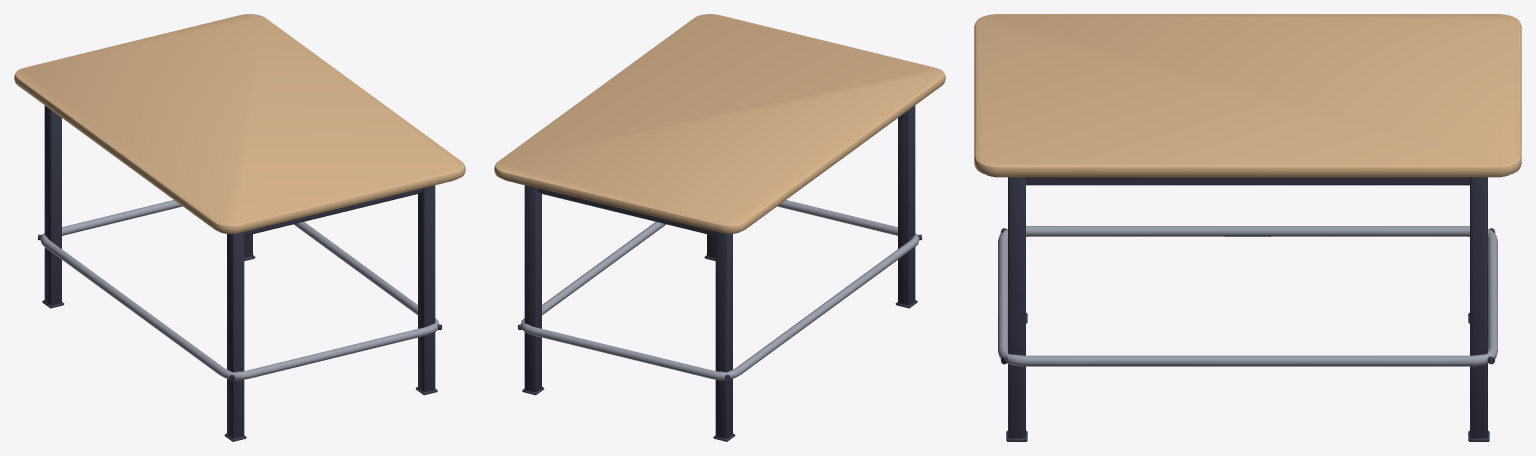
File: high_table.glb
The picture shows the model from 3 angles, left to right: view 1: azimuth 30°, elevation 25°; view 2: azimuth 150°, elevation 25°; view 3: azimuth 270°, elevation 25°; orthographic projection. The views are drawn at different scales.
Parts seen in each view (by area): view 1: oak, charcoal, steel; view 2: oak, charcoal, steel; view 3: oak, charcoal, steel, oak_edge.
Part boxes in pixels (x1,y1,x2,y2): oak: [14, 14, 465, 233]; charcoal: [37, 105, 442, 441]; steel: [40, 200, 439, 380]; oak: [494, 14, 945, 233]; charcoal: [517, 105, 922, 441]; steel: [520, 200, 919, 380]; oak: [974, 14, 1521, 176]; charcoal: [1000, 177, 1495, 441]; steel: [998, 226, 1497, 366]; oak_edge: [986, 174, 1509, 177].
Bounding box in the file's own units: 1.2 × 1.05 × 1.8.
